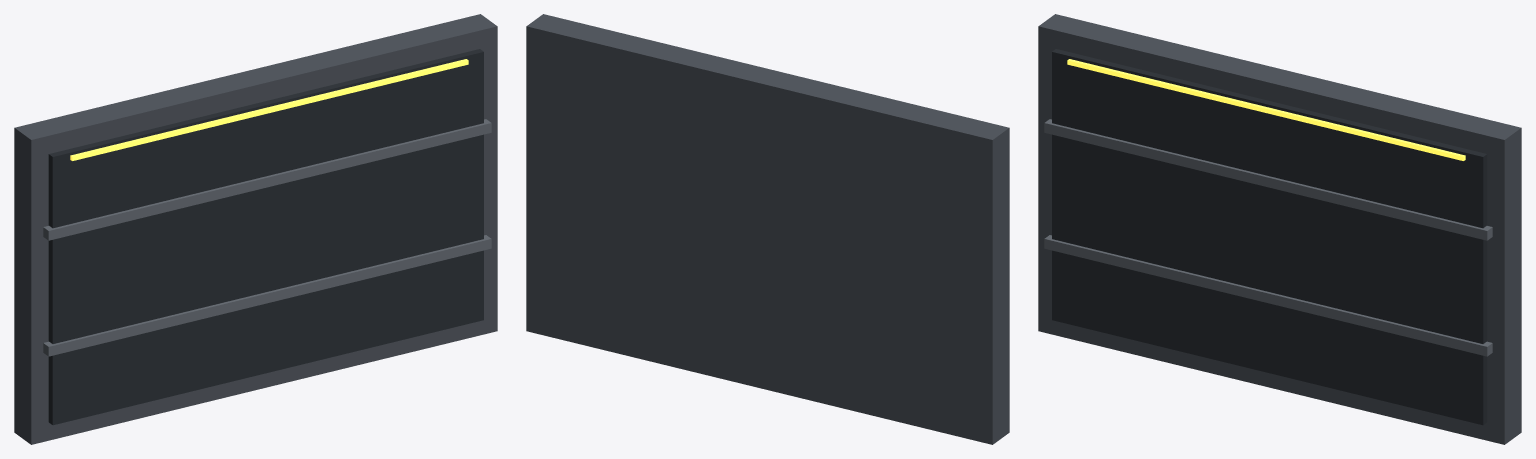
File: Modle_Prop_Wall.fbx
3 renders of one model, left to right at view 1: azimuth 30°, elevation 25°; view 2: azimuth 150°, elevation 25°; view 3: azimuth 330°, elevation 25°, orthographic.
Parts seen in each view (by area): view 1: Modle_Prop_Wall; view 2: Modle_Prop_Wall; view 3: Modle_Prop_Wall.
Boxes of the visible parts, x1,y1,x2,y2 form: Modle_Prop_Wall: (14,14,497,444); Modle_Prop_Wall: (526,14,1009,444); Modle_Prop_Wall: (1038,14,1521,444).
Size of the model in its own units: 8 by 5 by 0.68.
